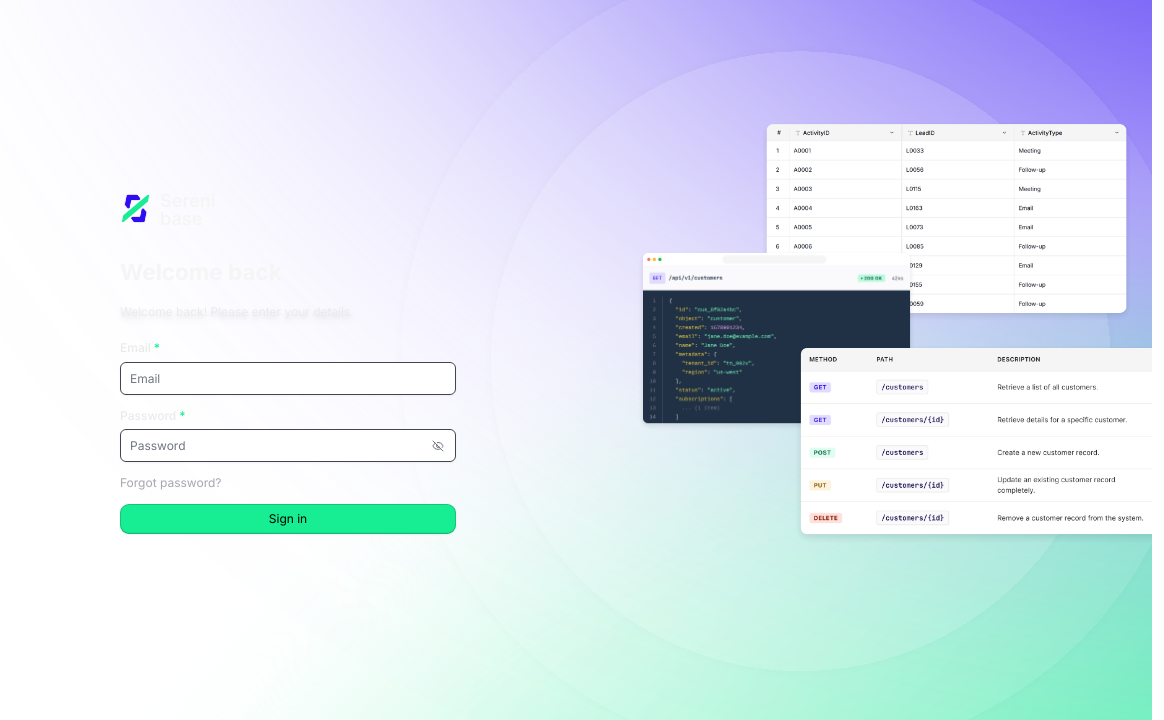
LoginPage › Password validation › should show error when password is empty on blur
Click the password field with placeholder "Password" at x=288, y=446, box [120,429,456,462]
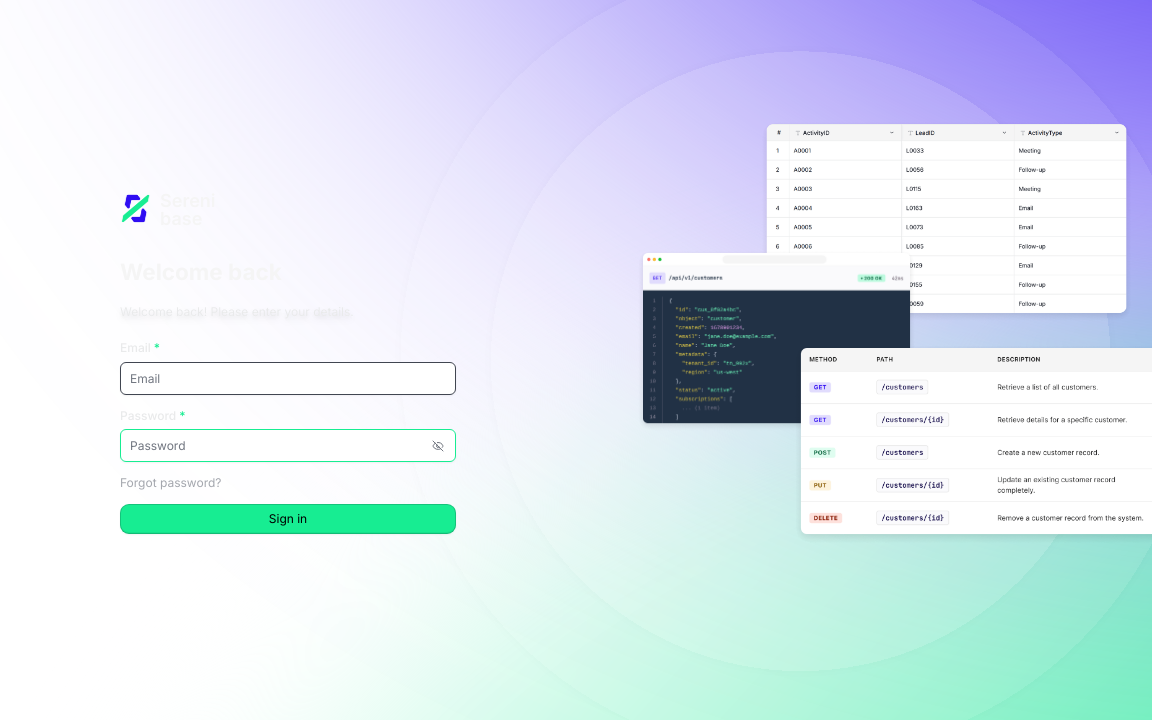
Press Tab
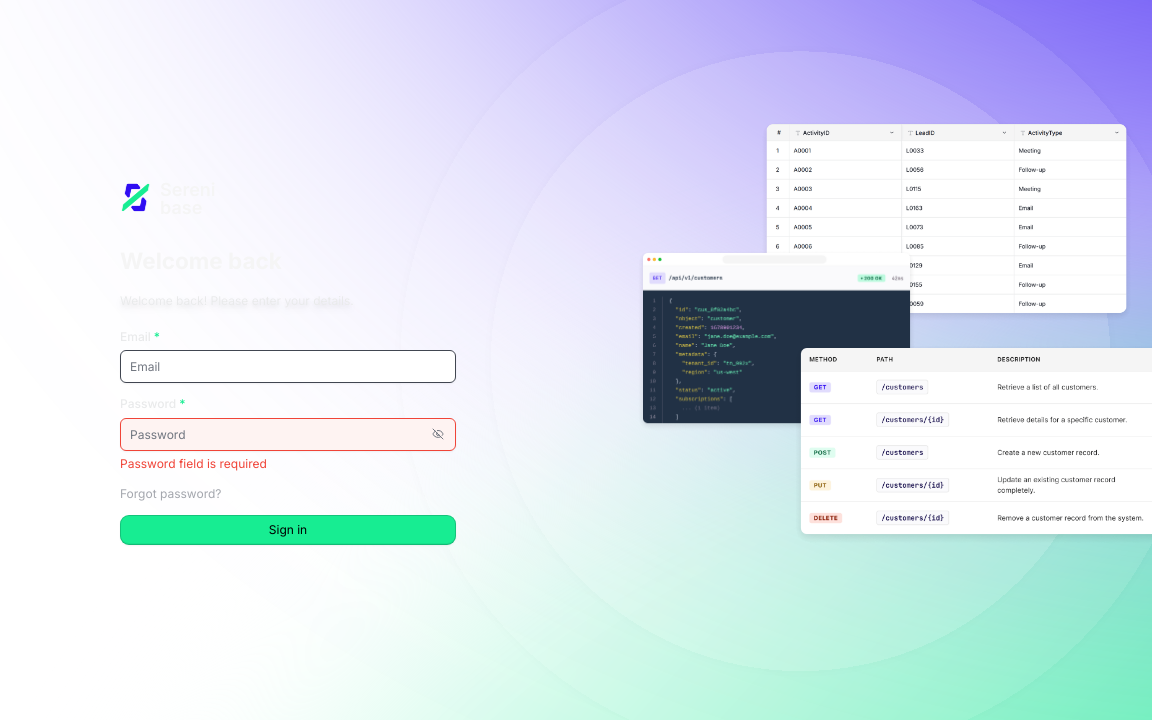
Expected: the text "Password field is required" is shown, [120,456,267,471]
